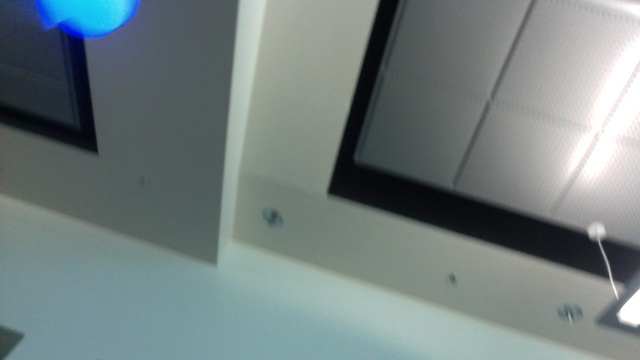wand: (44, 1, 136, 37)
